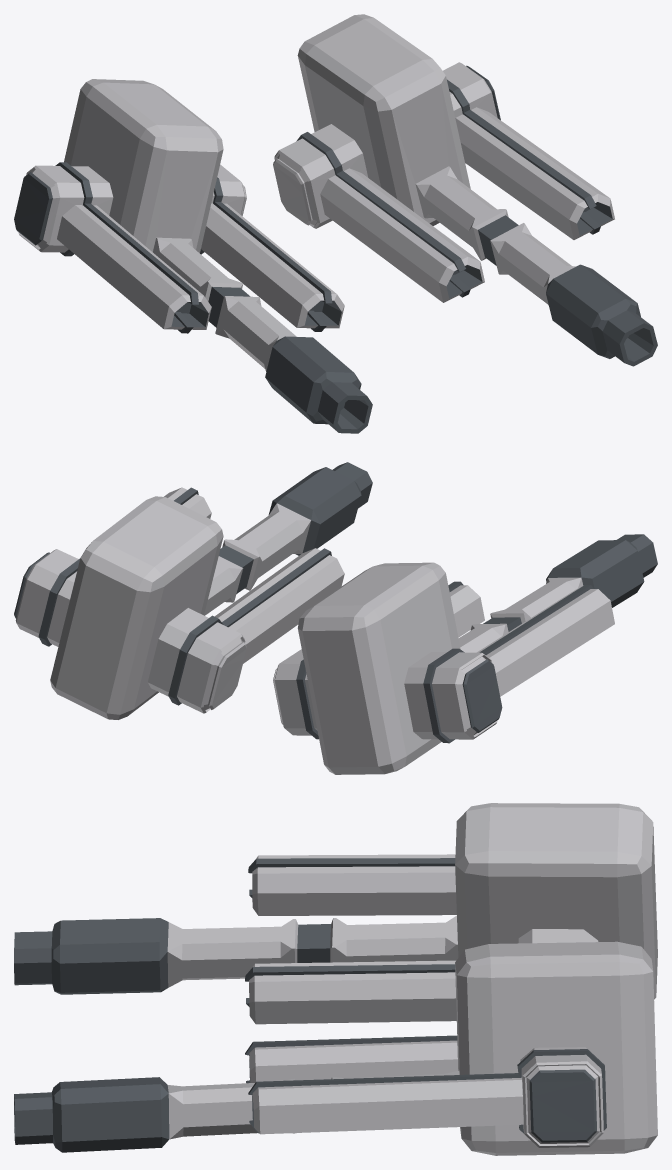
The model's file is Fighter_09_Artillery.fbx.
3 views of the same model, one above another, from view 1: azimuth 30°, elevation 25°; view 2: azimuth 150°, elevation 25°; view 3: azimuth 270°, elevation 25° (orthographic). The views are drawn at different scales.
Parts seen in each view (by area): view 1: Fighter_09_Artillery; view 2: Fighter_09_Artillery; view 3: Fighter_09_Artillery.
Part boxes in pixels (x1,y1,x2,y2): Fighter_09_Artillery: (14, 14, 657, 433); Fighter_09_Artillery: (14, 462, 657, 774); Fighter_09_Artillery: (14, 803, 657, 1155).
Bounding box in the file's own units: 303 × 106 × 315.
1 material, 1 textured.
